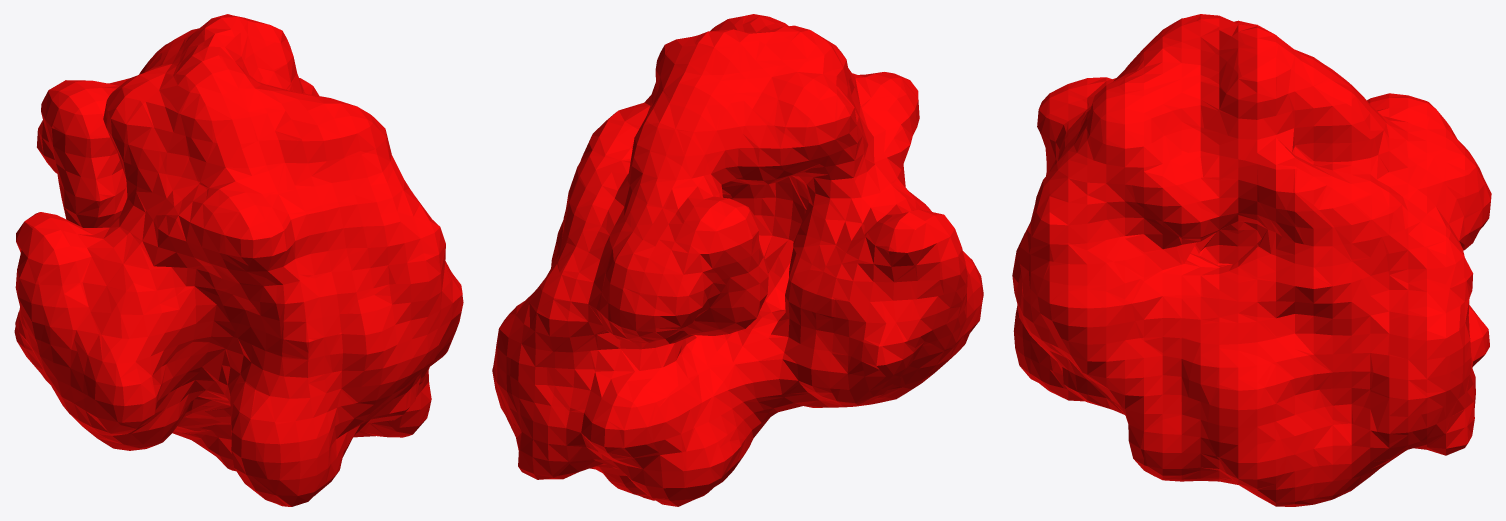
File: prc_coarse.dae
3 renders of one model, left to right at view 1: azimuth 30°, elevation 25°; view 2: azimuth 150°, elevation 25°; view 3: azimuth 270°, elevation 25°, orthographic. The views are drawn at different scales.
Visible parts, largest first — view 1: prc; view 2: prc; view 3: prc.
Part boxes in pixels (x1,y1,x2,y2): prc: (14, 14, 463, 506); prc: (492, 14, 983, 506); prc: (1012, 14, 1491, 506).
Bounding box in the file's own units: 69.95 × 78.1 × 76.4.
